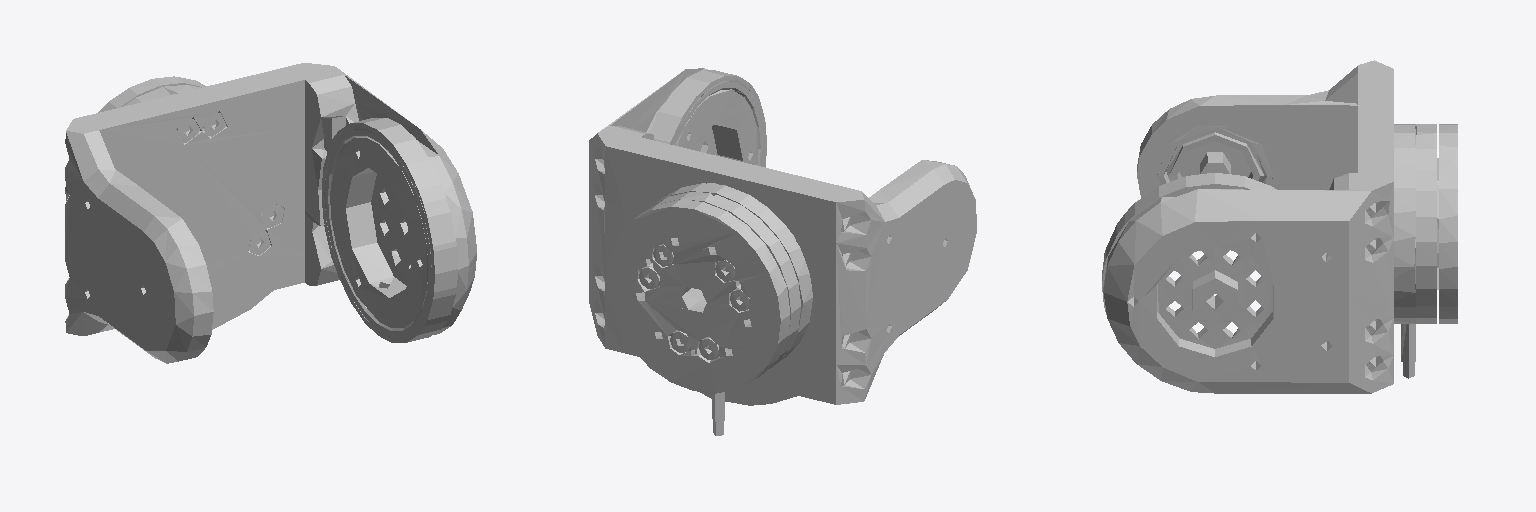
File: sim_ecub_r_shoulder_2.obj
The picture shows the model from 3 angles: view 1: azimuth 30°, elevation 25°; view 2: azimuth 150°, elevation 25°; view 3: azimuth 270°, elevation 25°; orthographic projection.
Bounding box in the file's own units: 74.88 × 62.85 × 79.66.